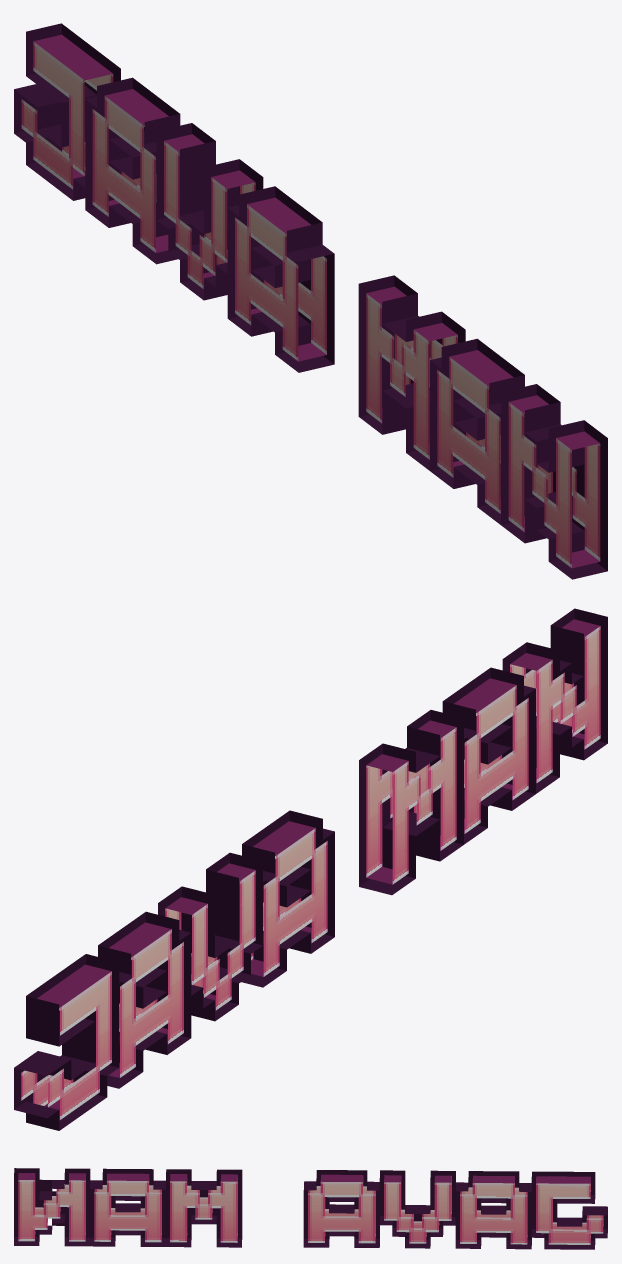
The model's file is jman.gltf.
3 renders of one model, top to bottom at view 1: azimuth 30°, elevation 25°; view 2: azimuth 150°, elevation 25°; view 3: azimuth 270°, elevation 25°, orthographic. The views are drawn at different scales.
Visible parts, largest first — view 1: cube (×29); view 2: cube (×29); view 3: cube (×28).
Boxes of the visible parts, <box> form: cube (×29): <box>14,24,607,579</box>; cube (×29): <box>14,608,607,1130</box>; cube (×28): <box>14,1168,607,1249</box>.
Size of the model in its own units: 0.00504 by 0.0126 by 0.0985.
Materials: 1 (1 with a texture image).
